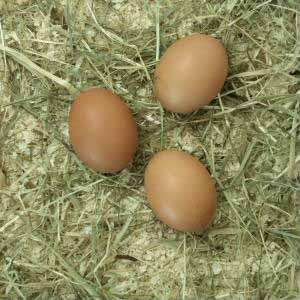egg: (155, 35, 231, 114), (69, 87, 137, 174), (144, 150, 216, 232)
